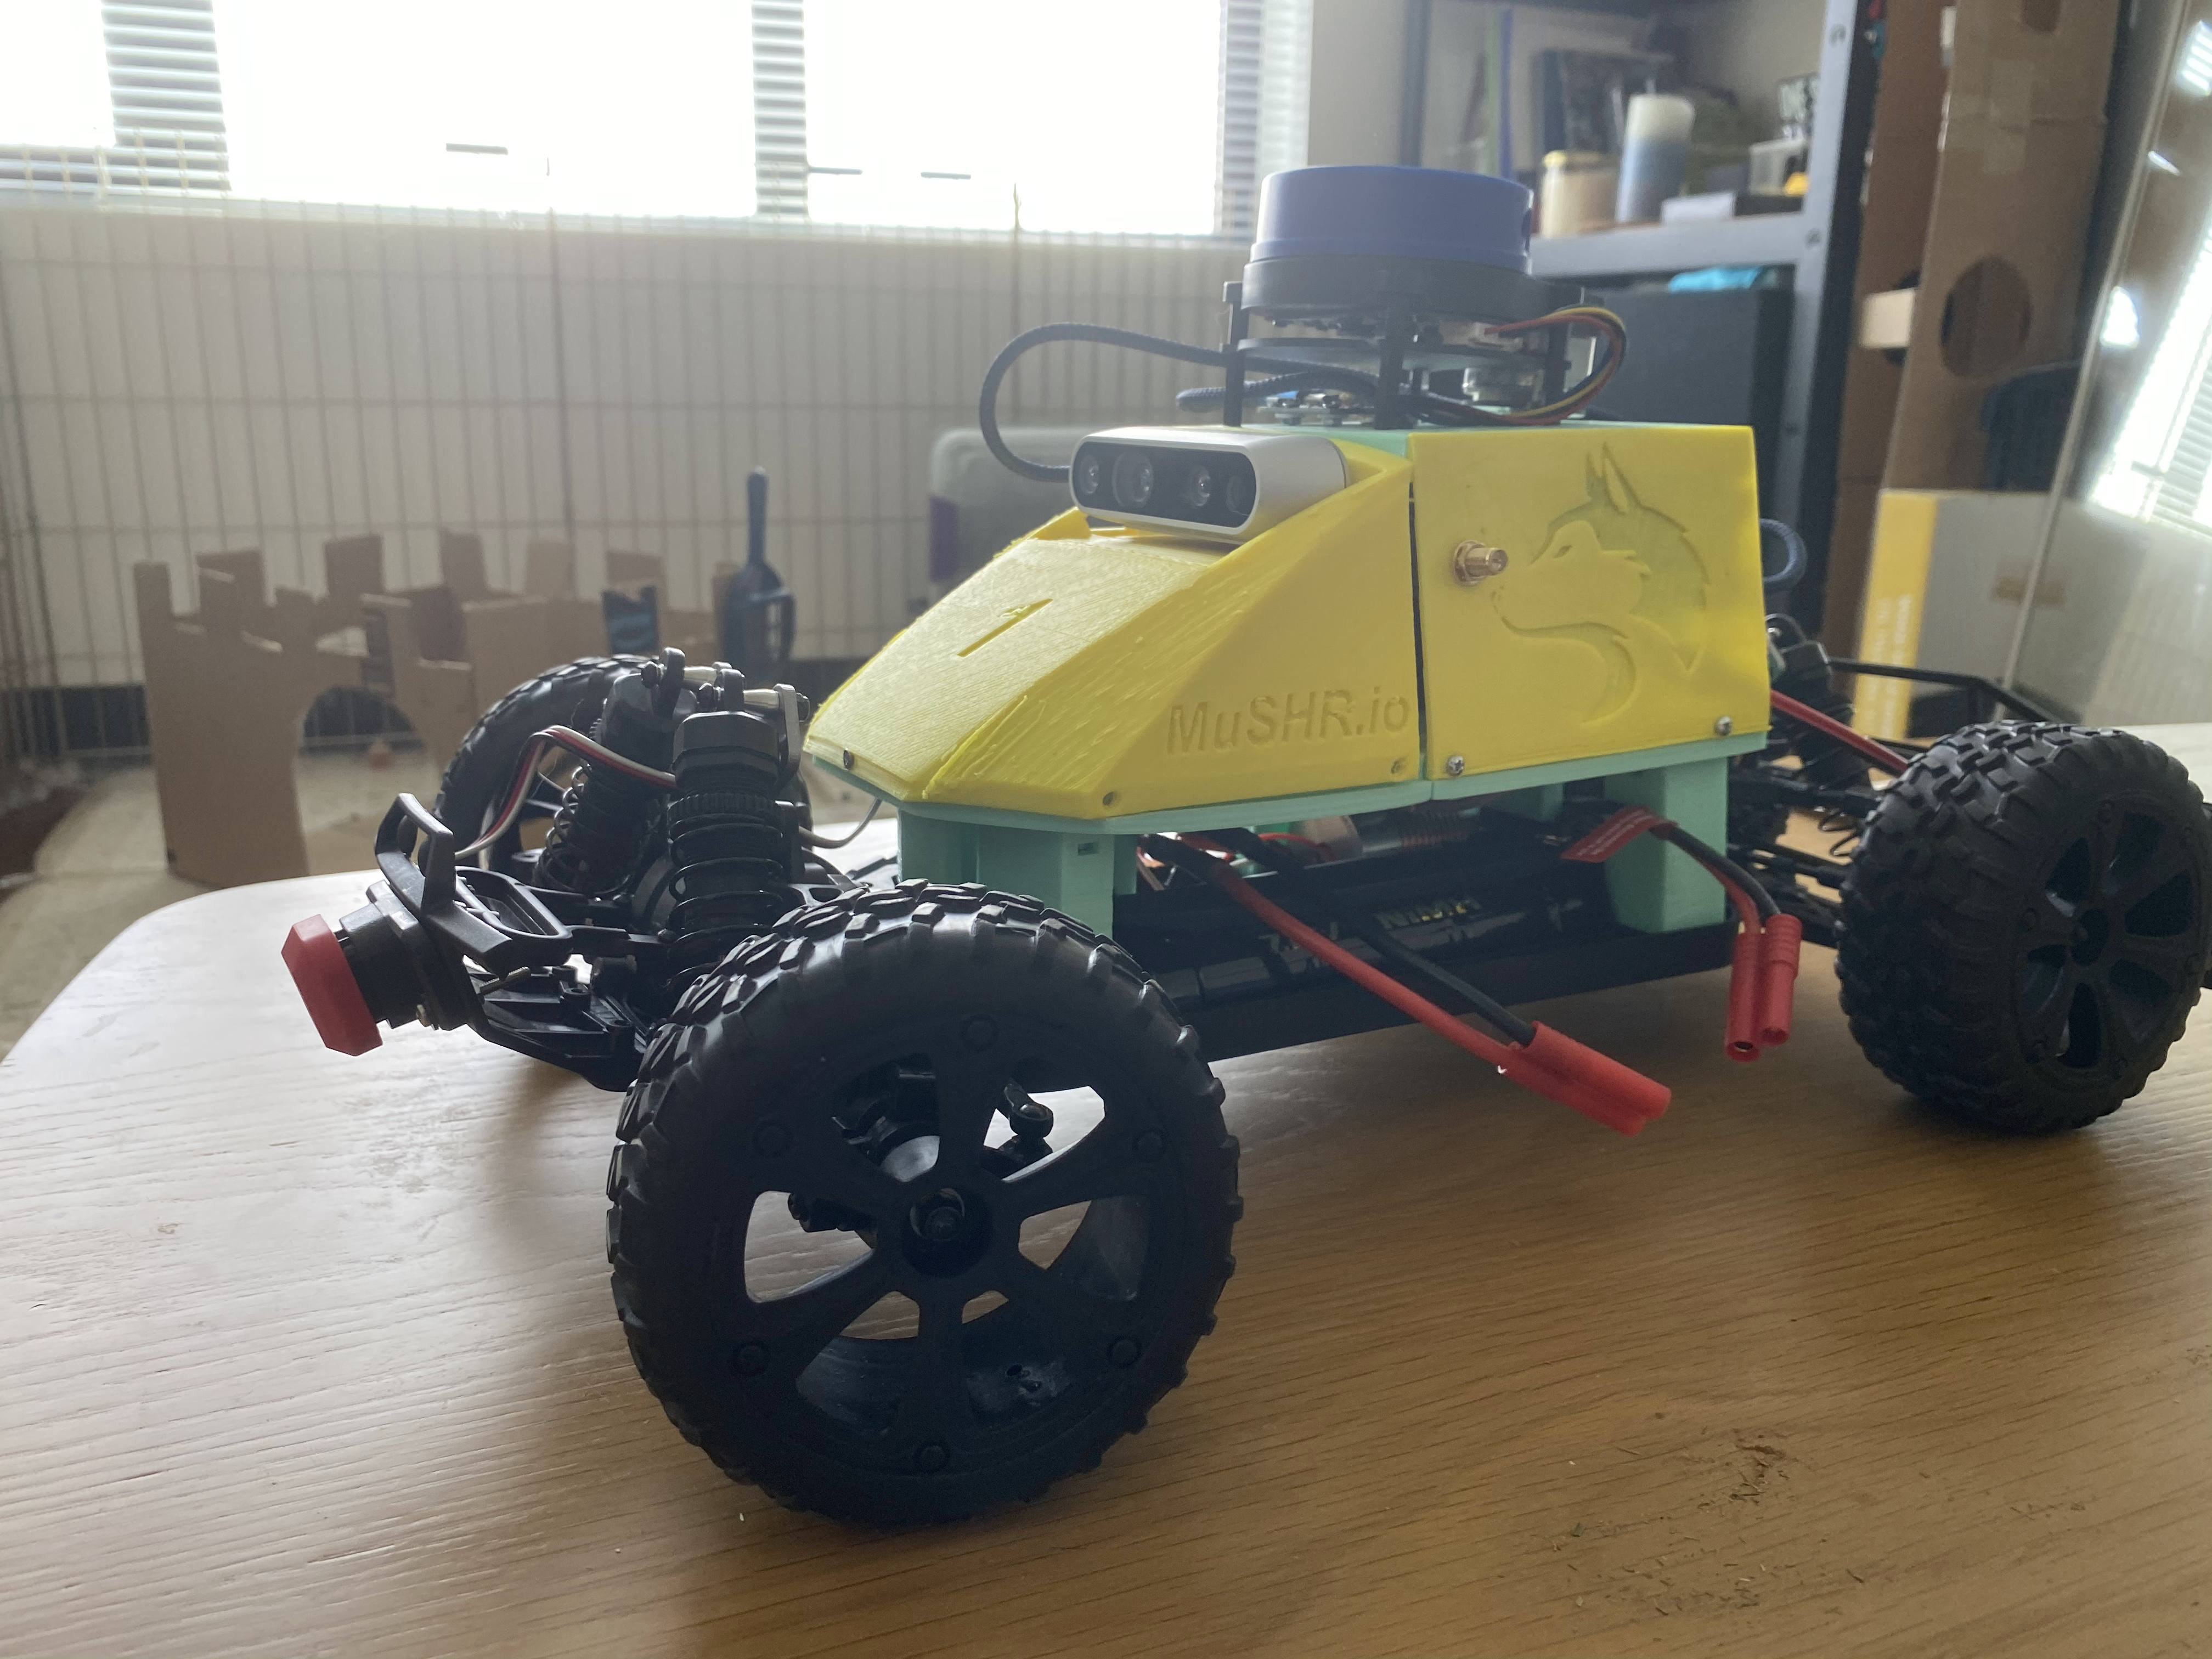mushr_car: (254, 131, 2212, 1535)
